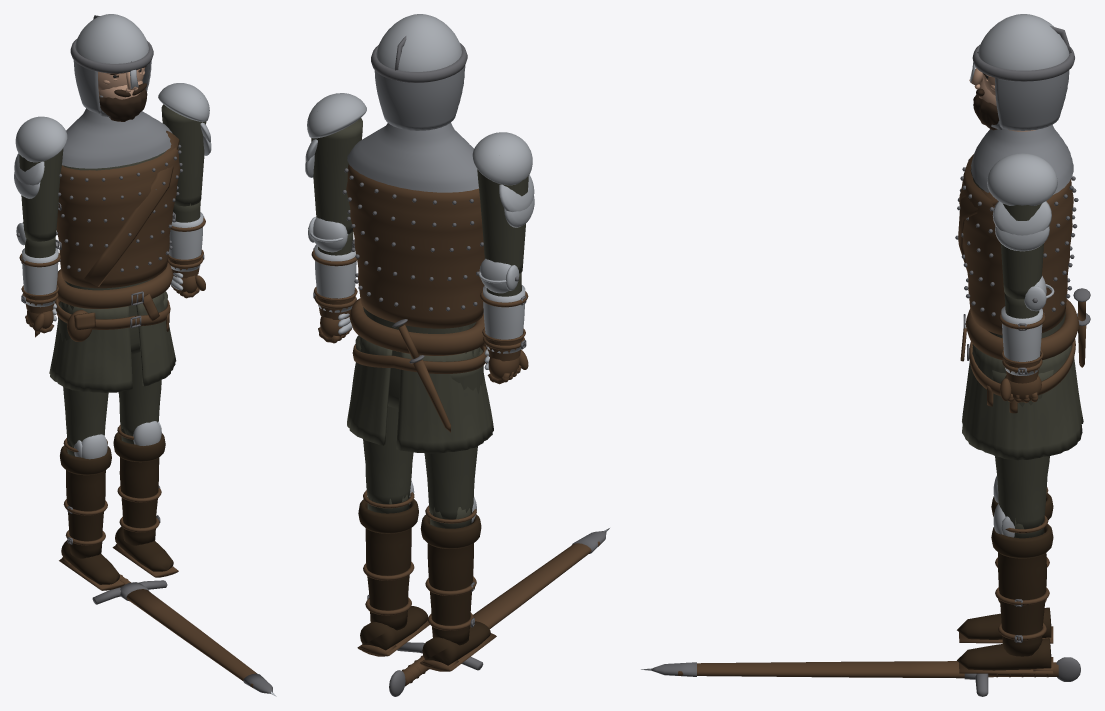
Rendered from hero.glb.
3 views of the same model, side by side, from view 1: azimuth 30°, elevation 25°; view 2: azimuth 150°, elevation 25°; view 3: azimuth 270°, elevation 25° (orthographic). The views are drawn at different scales.
Visible parts, largest first — view 1: SpineMesh, HipsMesh, HeadMesh, ShinR, ShinL, Scabbard, UpperArmL, UpperArmR, ForearmR, ThighR, ThighL, ForearmL (+3 smaller); view 2: SpineMesh, HipsMesh, HeadMesh, ShinR, ShinL, ThighR, ForearmR, ForearmL, UpperArmL, ThighL, Scabbard, UpperArmR (+3 smaller); view 3: SpineMesh, HipsMesh, HeadMesh, ShinL, Scabbard, ThighL, ForearmL, UpperArmL, ShinR, HandLMesh, Sword.
Boxes of the visible parts, <box> form: SpineMesh: <box>14,83,211,288</box>; HipsMesh: <box>35,262,176,392</box>; HeadMesh: <box>70,14,153,121</box>; ShinR: <box>59,433,124,590</box>; ShinL: <box>112,421,178,577</box>; Scabbard: <box>120,582,272,693</box>; UpperArmL: <box>161,104,206,206</box>; UpperArmR: <box>19,148,63,241</box>; ForearmR: <box>16,222,60,307</box>; ThighR: <box>58,302,108,447</box>; ThighL: <box>118,291,167,436</box>; ForearmL: <box>168,201,205,271</box>; SpineMesh: <box>305,93,534,330</box>; HipsMesh: <box>347,298,493,453</box>; HeadMesh: <box>371,14,467,130</box>; ShinR: <box>420,497,496,671</box>; ShinL: <box>357,481,429,656</box>; ThighR: <box>424,347,483,523</box>; ForearmR: <box>478,258,528,353</box>; ForearmL: <box>308,217,356,312</box>; UpperArmL: <box>311,118,362,234</box>; ThighL: <box>355,335,413,508</box>; Scabbard: <box>473,531,606,628</box>; UpperArmR: <box>477,169,528,273</box>; SpineMesh: <box>955,125,1078,335</box>; HipsMesh: <box>960,288,1090,460</box>; HeadMesh: <box>969,14,1074,130</box>; ShinL: <box>957,503,1053,673</box>; Scabbard: <box>651,661,976,679</box>; ThighL: <box>992,370,1053,529</box>; ForearmL: <box>999,276,1054,375</box>; UpperArmL: <box>1001,203,1043,299</box>; ShinR: <box>957,476,1053,643</box>; HandLMesh: <box>1000,350,1043,402</box>; Sword: <box>641,657,1080,696</box>.
Size of the model in its own units: 0.6888 by 2.03 by 1.25.
